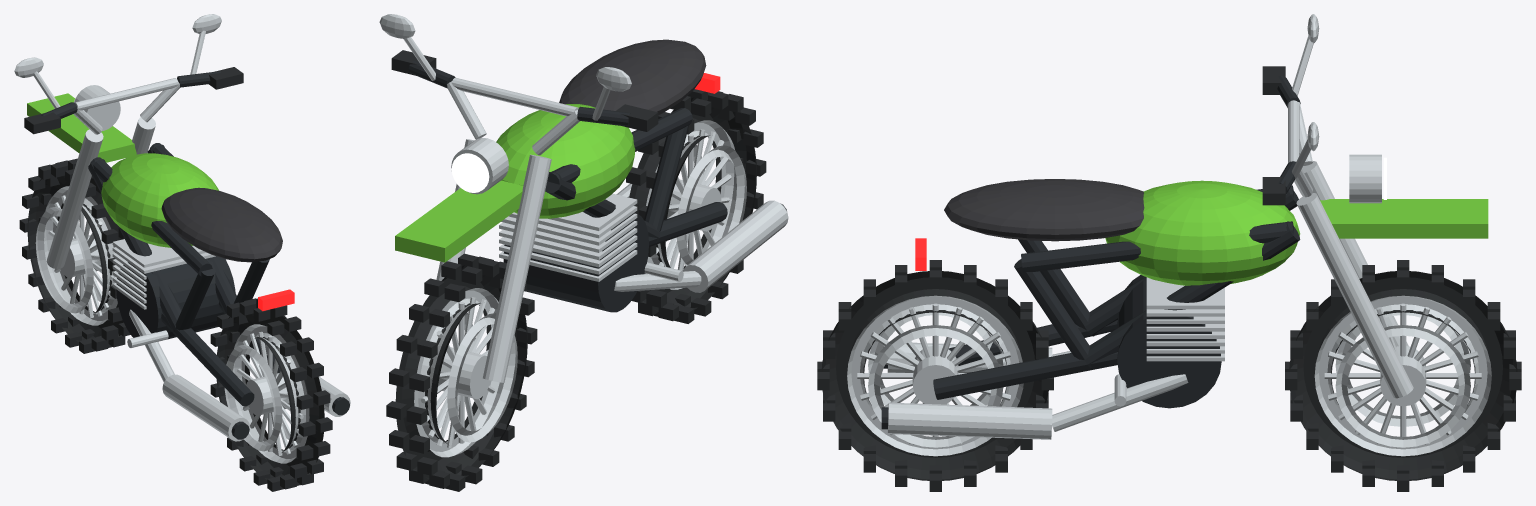
The model's file is bike_dirt.glb.
3 views of the same model, side by side, from view 1: azimuth 30°, elevation 25°; view 2: azimuth 150°, elevation 25°; view 3: azimuth 270°, elevation 25° (orthographic). The views are drawn at different scales.
Visible parts, largest first — view 1: Frame, Wheel_R, Wheel_F, Fork_Front; view 2: Frame, Wheel_F, Fork_Front, Wheel_R; view 3: Frame, Wheel_F, Wheel_R, Fork_Front.
Part boxes in pixels (bbox=[...]): Frame: bbox=[88, 143, 350, 441]; Wheel_R: bbox=[210, 298, 332, 491]; Wheel_F: bbox=[19, 158, 130, 353]; Fork_Front: bbox=[14, 14, 243, 268]; Frame: bbox=[496, 39, 788, 312]; Wheel_F: bbox=[386, 253, 537, 491]; Fork_Front: bbox=[379, 14, 658, 382]; Wheel_R: bbox=[626, 89, 766, 323]; Frame: bbox=[881, 179, 1300, 439]; Wheel_F: bbox=[1285, 260, 1521, 491]; Wheel_R: bbox=[817, 260, 1053, 491]; Fork_Front: bbox=[1262, 14, 1488, 398].
Size of what is drawn, in the model's own units: 0.92 by 1.39 by 2.15.
